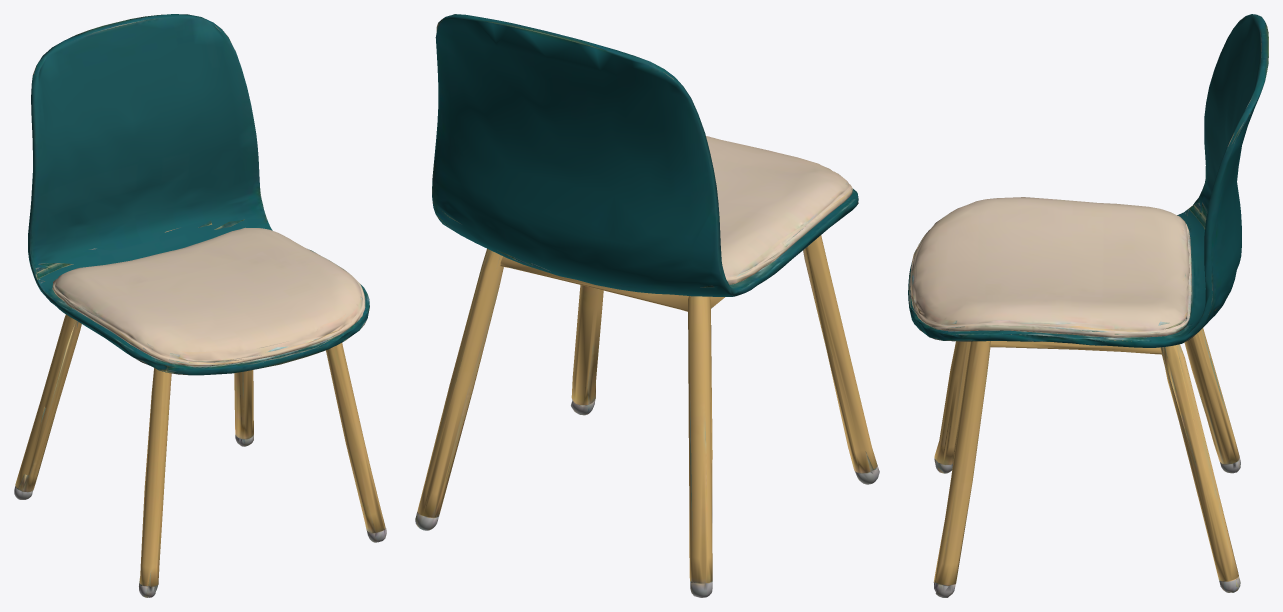
The model's file is chair_dining_teal.glb.
3 renders of one model, left to right at view 1: azimuth 30°, elevation 25°; view 2: azimuth 150°, elevation 25°; view 3: azimuth 270°, elevation 25°, orthographic. The views are drawn at different scales.
Visible parts, largest first — view 1: prop; view 2: prop; view 3: prop.
Boxes of the visible parts, x1,y1,x2,y2 form: prop: (14,14,386,597); prop: (415,14,879,597); prop: (908,14,1268,597).
Size of the model in its own units: 0.5344 by 0.92 by 0.6162.
Materials: 1 (1 with a texture image).
